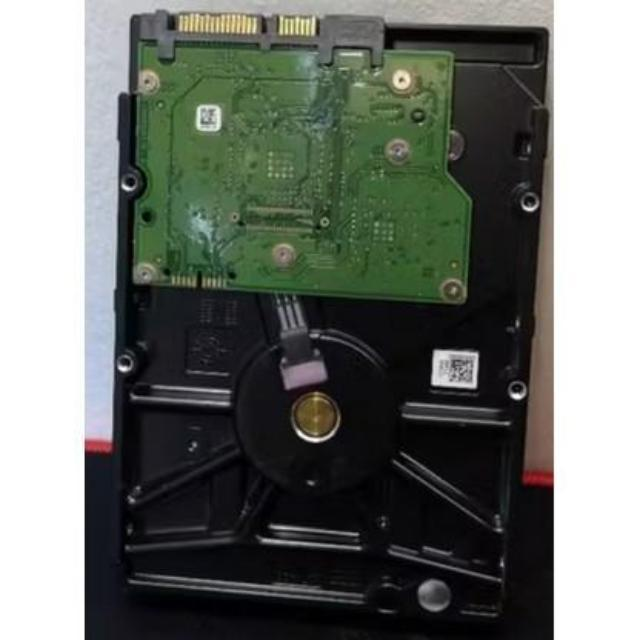DISK: (117, 8, 548, 640)
